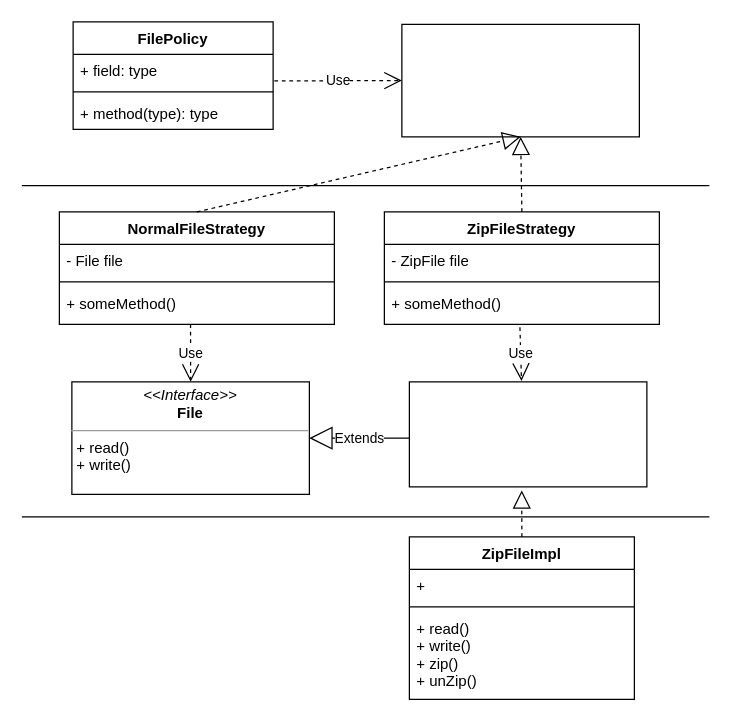
This 731x725 diagram has some shape labels left out. The shapes that lost their labels are listed below. From the top down, each one's centre as x and y in pixels, then its label:
At (x=520, y=80): "<<Interface>> FileStrategy + someMethod()".
At (x=527, y=434): "<<Interface>> ZipFile + zip() + unZip()".
